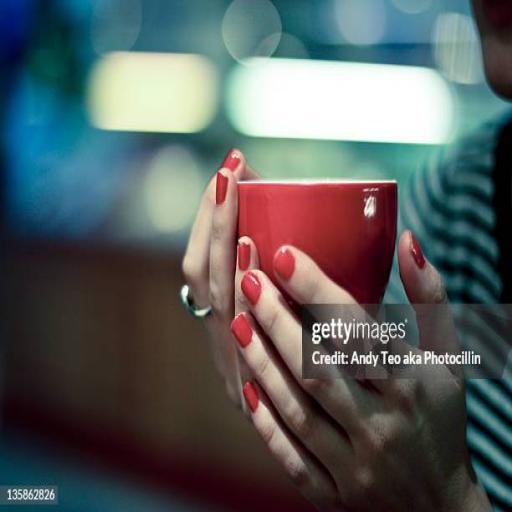cup: (236, 178, 398, 323)
